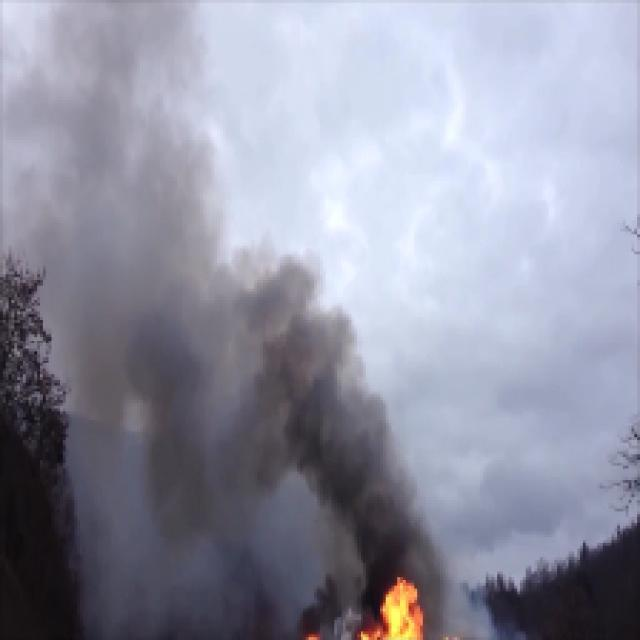Fire: (377, 574, 417, 640)
Smoke: (326, 408, 418, 562), (248, 299, 323, 454)
